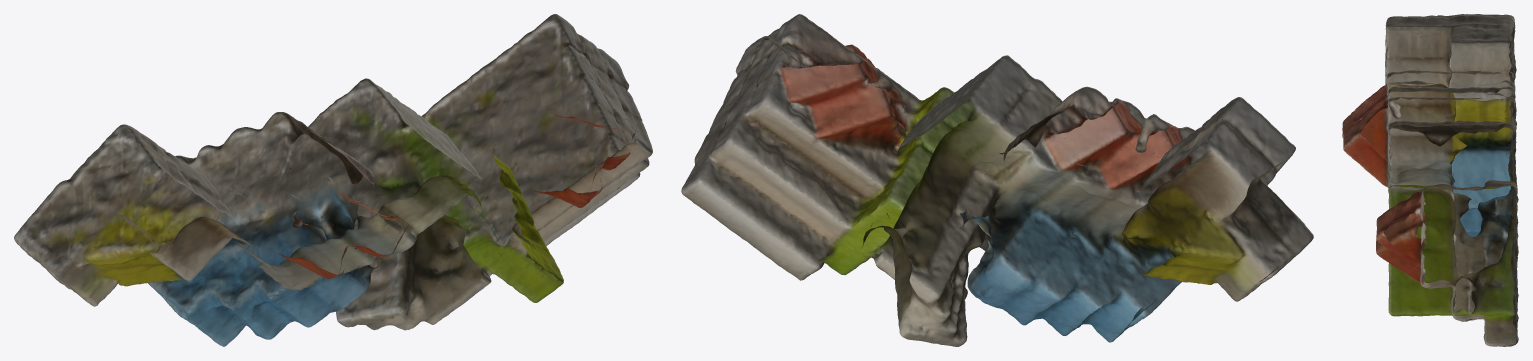
The model's file is blocks.glb.
3 views of the same model, side by side, from view 1: azimuth 30°, elevation 25°; view 2: azimuth 150°, elevation 25°; view 3: azimuth 270°, elevation 25° (orthographic). The views are drawn at different scales.
Size of the model in its own units: 1 by 0.4099 by 0.3101.
